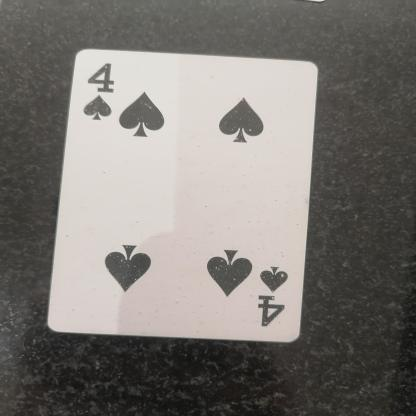4S: (67, 60, 134, 138), (252, 256, 298, 334)
